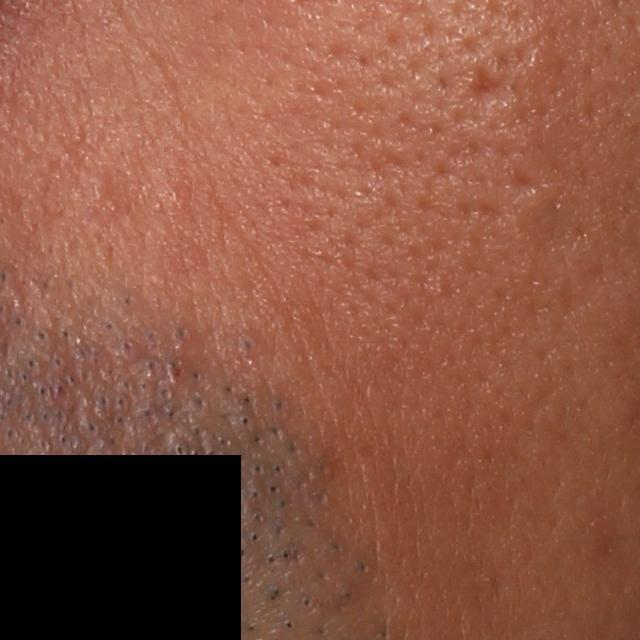atrophic_scar: (463, 60, 518, 114), (508, 162, 537, 193)
